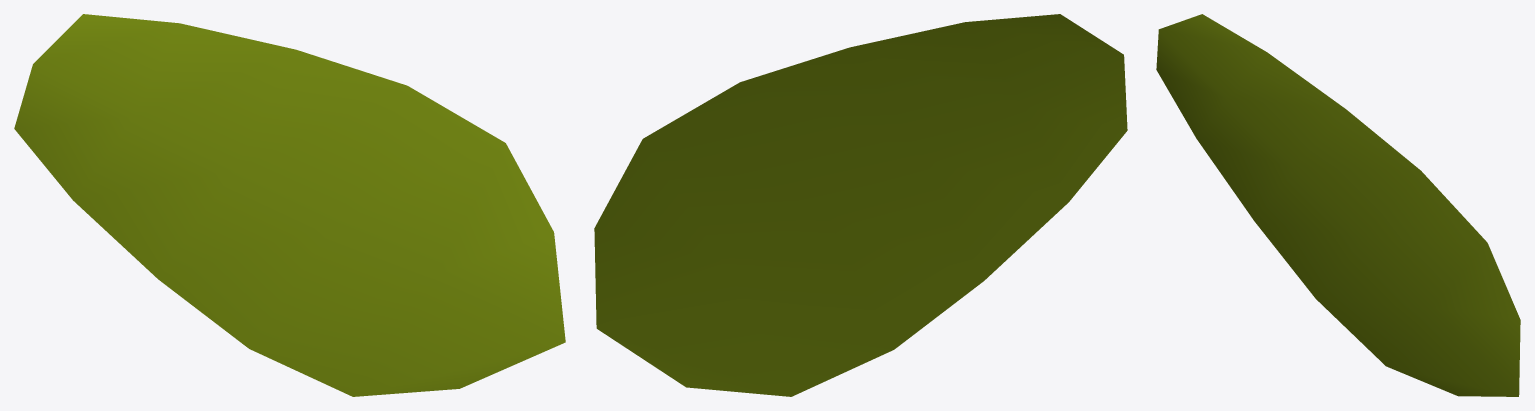
The model's file is lovebird_feather_flight_tertiary_028.obj.
The picture shows the model from 3 angles, left to right: view 1: azimuth 30°, elevation 25°; view 2: azimuth 150°, elevation 25°; view 3: azimuth 330°, elevation 25°; orthographic projection. The views are drawn at different scales.
Visible parts, largest first — view 1: feather_flight_tertiary_028; view 2: feather_flight_tertiary_028; view 3: feather_flight_tertiary_028.
Part boxes in pixels (bbox=[...]): feather_flight_tertiary_028: bbox=[14, 14, 565, 396]; feather_flight_tertiary_028: bbox=[594, 14, 1127, 396]; feather_flight_tertiary_028: bbox=[1156, 14, 1520, 396].
Size of the model in its own units: 0.00691 by 0.00568 by 0.000246.
